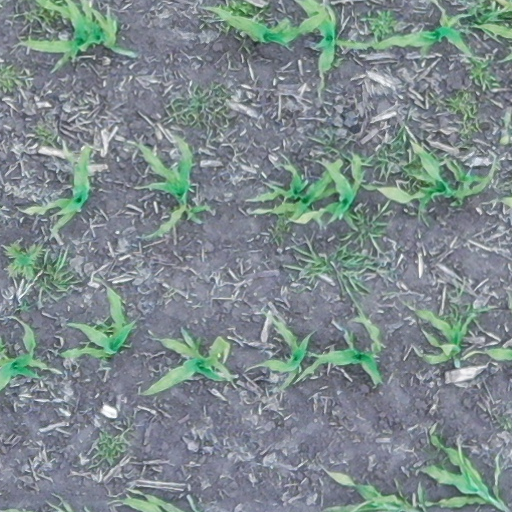planta: (136, 134, 208, 241), (21, 141, 96, 238), (143, 326, 235, 398), (296, 311, 384, 386), (375, 138, 460, 213), (203, 2, 329, 50), (59, 285, 137, 362), (251, 161, 336, 228), (257, 310, 318, 388), (408, 307, 469, 367), (321, 151, 367, 226), (87, 5, 139, 60), (442, 154, 499, 200), (158, 334, 193, 357), (311, 24, 321, 32), (454, 193, 461, 200)
